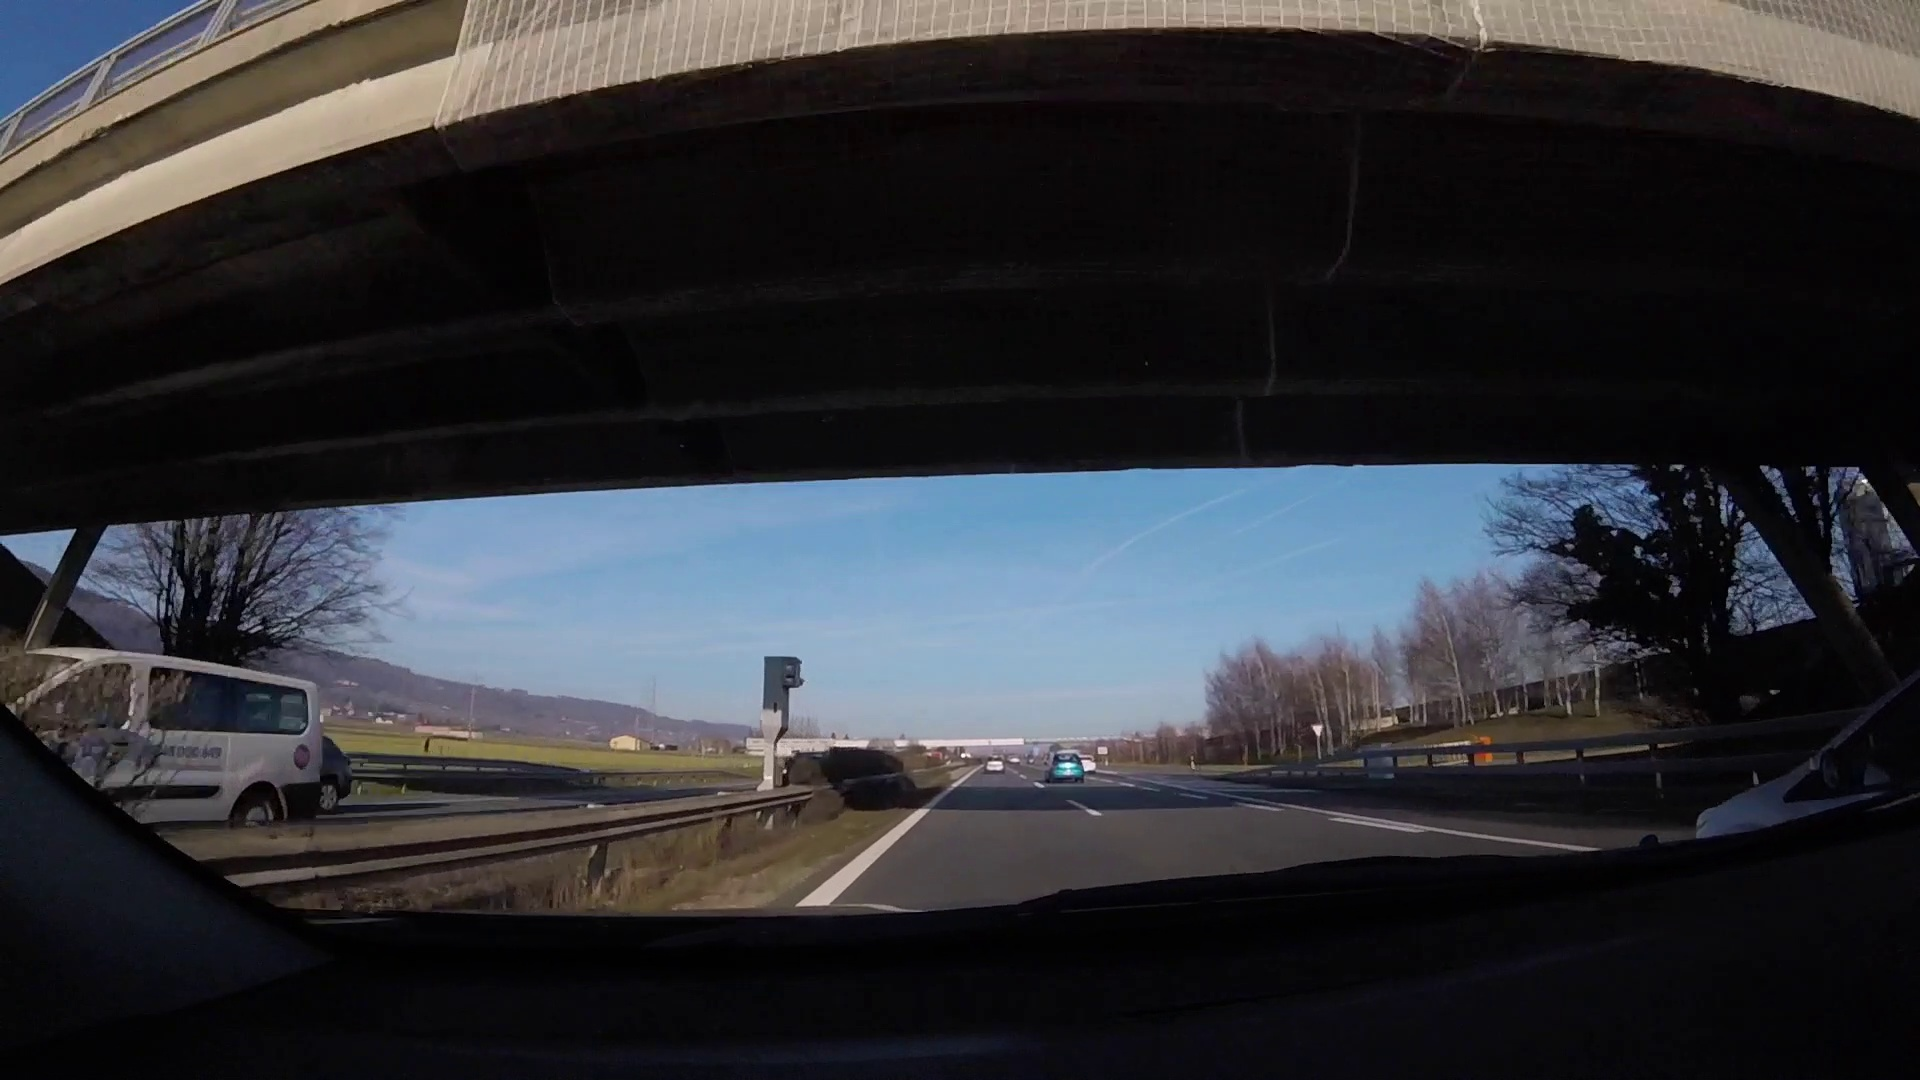radar: (761, 654, 808, 785)
